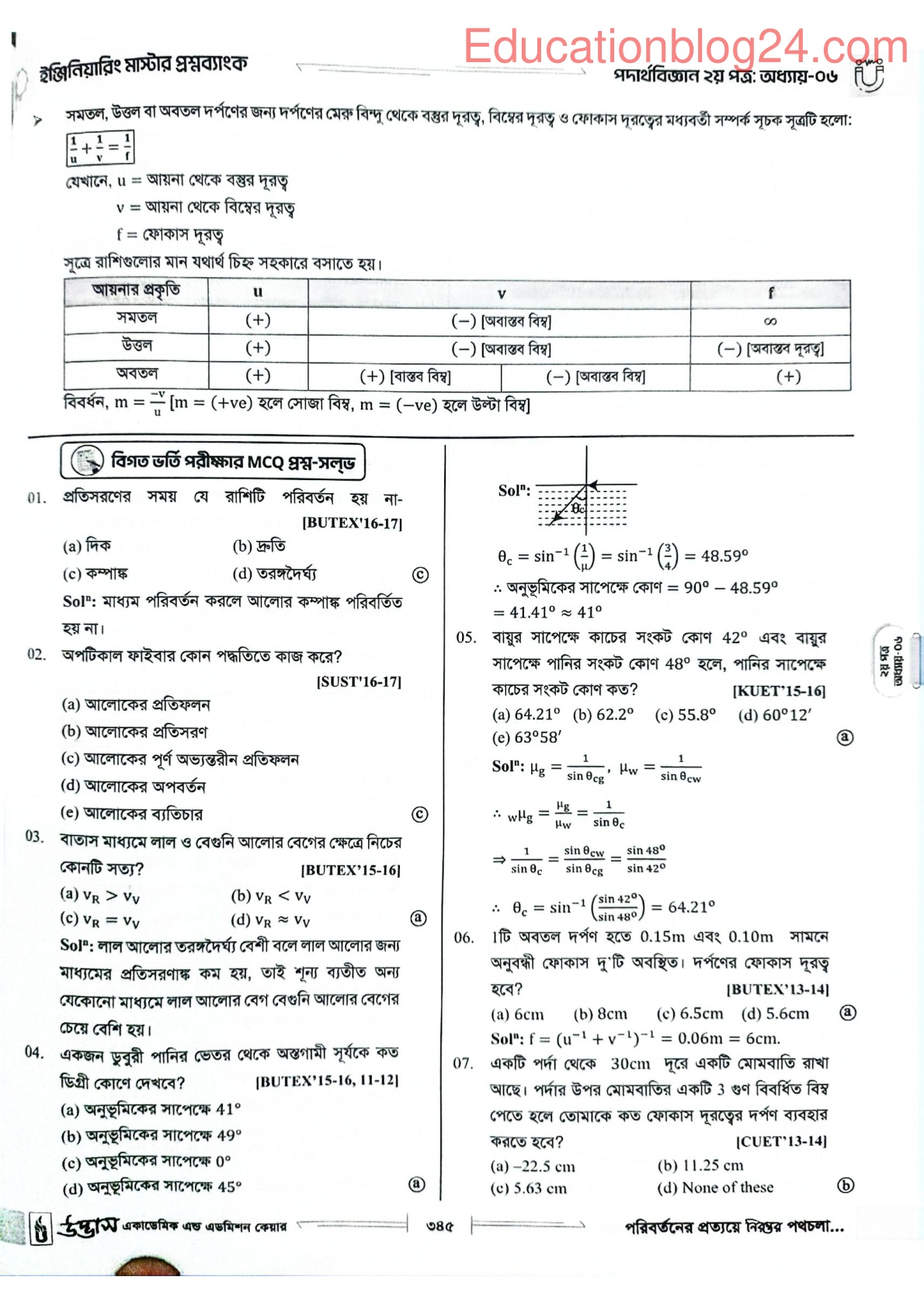question: (22, 644, 407, 823), (24, 1039, 409, 1203), (448, 1052, 837, 1201), (451, 625, 837, 751), (23, 827, 409, 936), (451, 925, 837, 1031), (22, 484, 407, 590)
